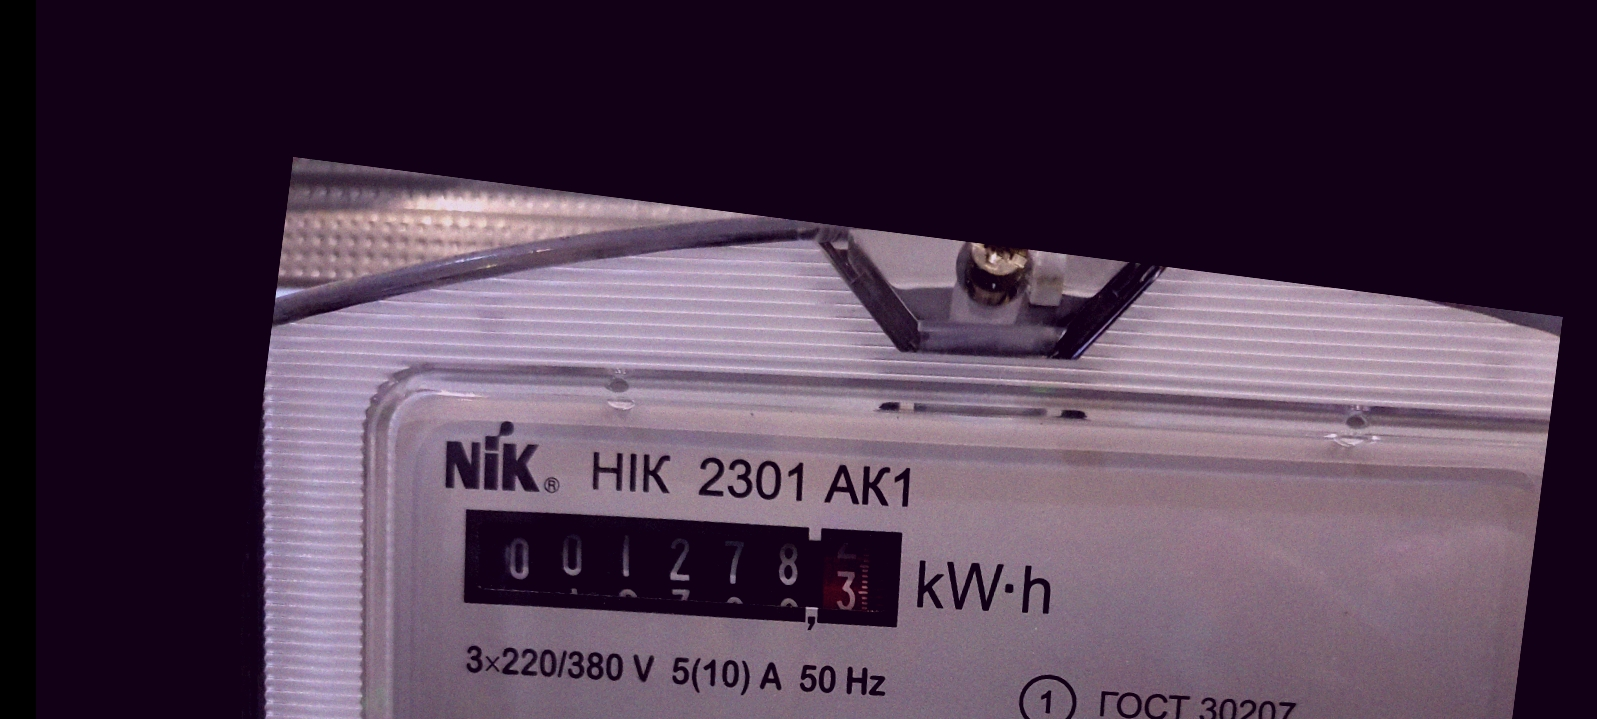0: (504, 532, 538, 583), (558, 529, 588, 578)
1: (617, 530, 639, 580)
2: (665, 534, 697, 583), (834, 539, 862, 563)
3: (831, 564, 863, 611)
7: (720, 536, 748, 587)
8: (774, 539, 805, 588)
screen: (436, 466, 927, 667)
